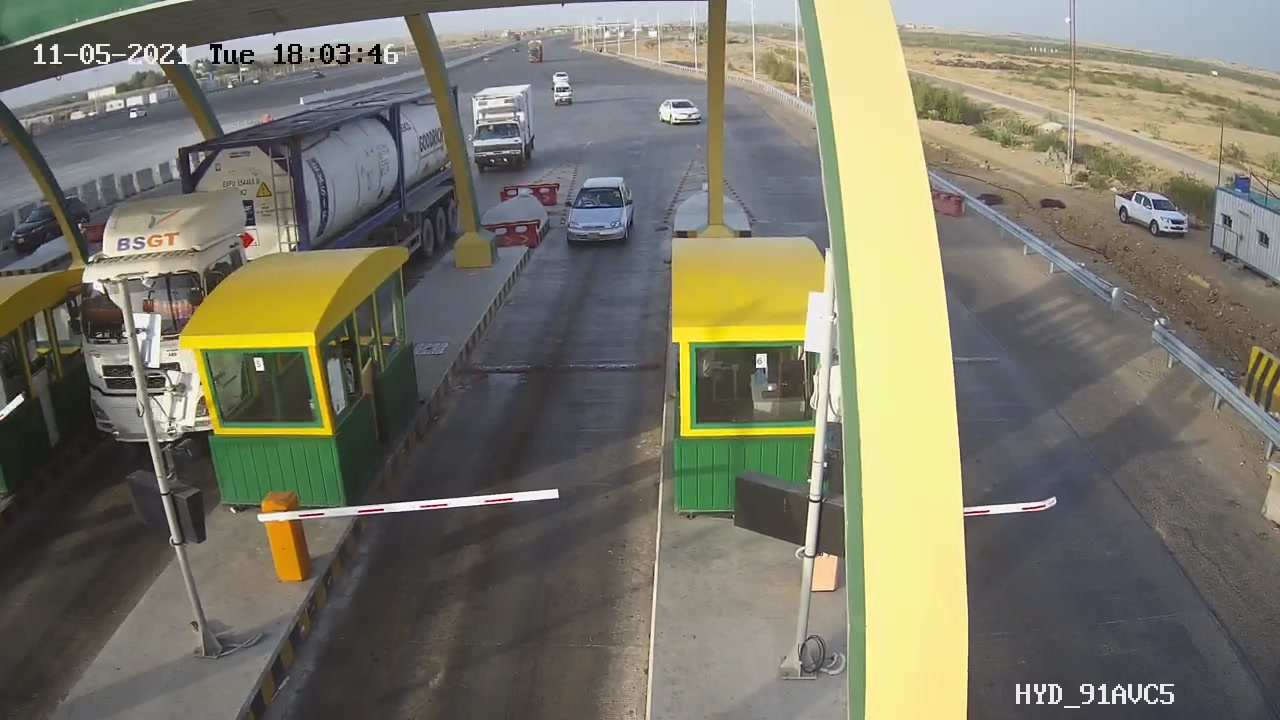F1: (546, 162, 648, 262)
